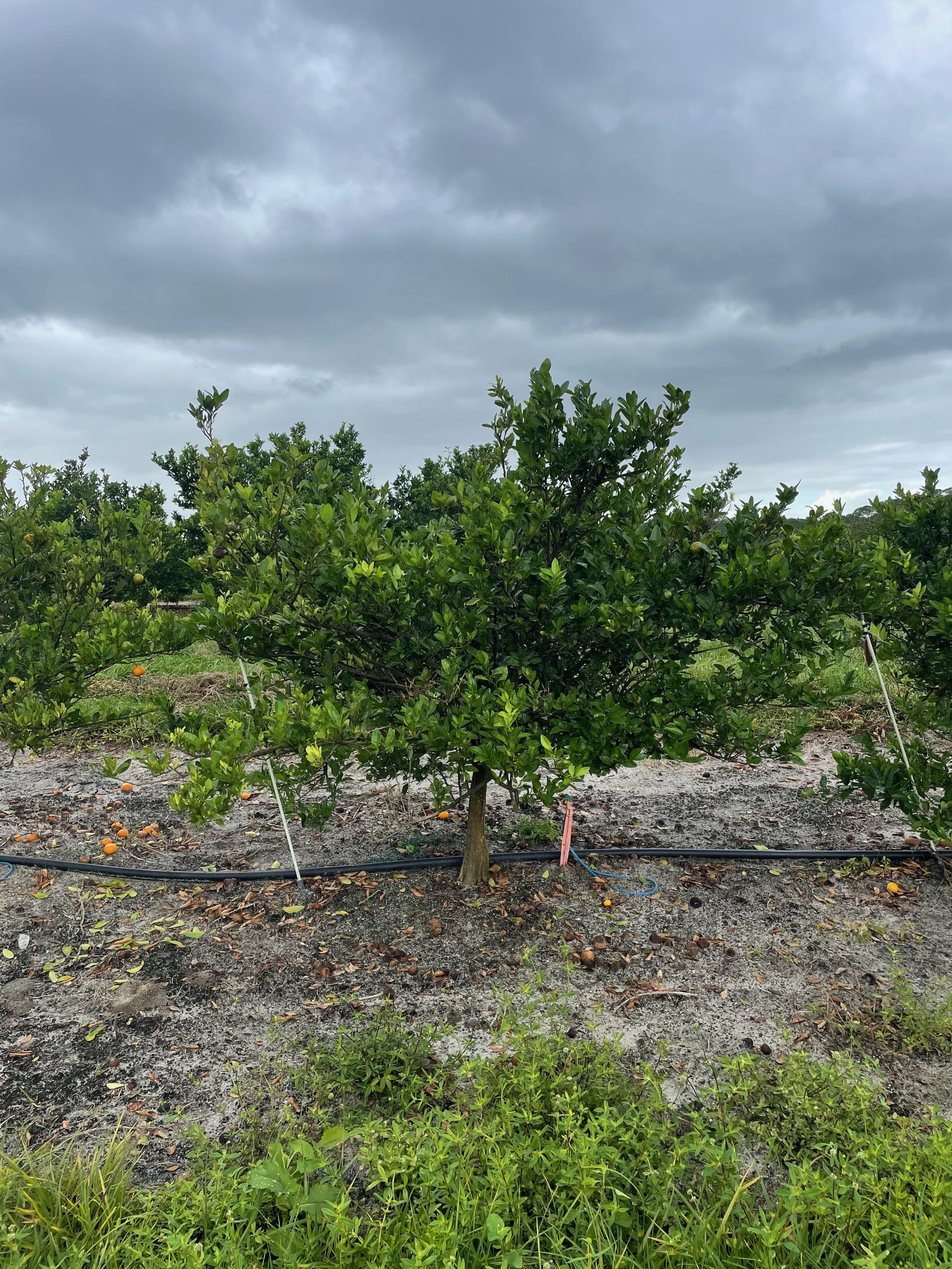fruit_on_ground: (689, 540, 705, 555), (131, 663, 146, 678), (211, 546, 226, 560), (131, 571, 145, 585), (22, 531, 35, 545)
fruit_on_tree: (591, 933, 609, 949), (579, 947, 597, 963), (903, 833, 921, 848), (886, 879, 902, 894), (102, 842, 118, 855), (120, 780, 135, 792), (437, 808, 451, 820), (239, 789, 253, 801), (116, 827, 130, 839), (109, 820, 124, 831), (77, 853, 90, 864), (141, 824, 154, 834), (13, 832, 24, 843), (100, 837, 113, 846), (27, 831, 38, 841), (149, 821, 161, 830), (602, 898, 613, 907)
